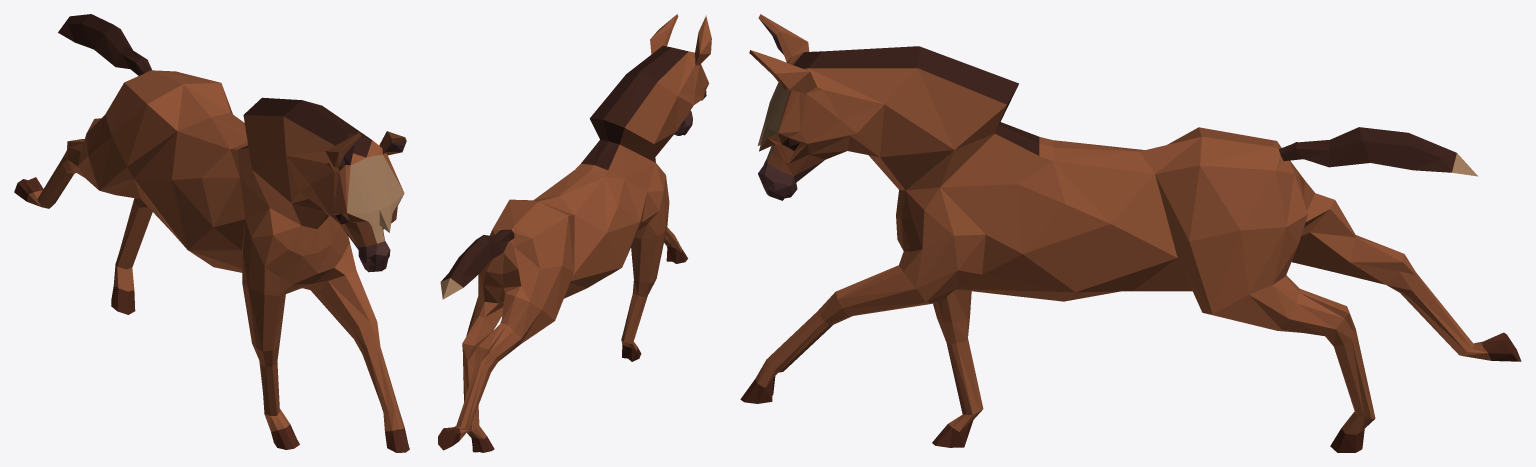
The model's file is Horse_brown_v4_big_head.glb.
3 renders of one model, left to right at view 1: azimuth 30°, elevation 25°; view 2: azimuth 150°, elevation 25°; view 3: azimuth 270°, elevation 25°, orthographic. The views are drawn at different scales.
Bounding box in the file's own units: 61.1 × 194 × 322.
